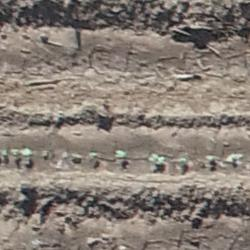cotton: (150, 153, 158, 162), (229, 154, 238, 162), (116, 150, 126, 157), (22, 149, 31, 156), (10, 150, 18, 156), (1, 149, 7, 157), (157, 159, 166, 164), (181, 157, 185, 164), (91, 151, 96, 156)
